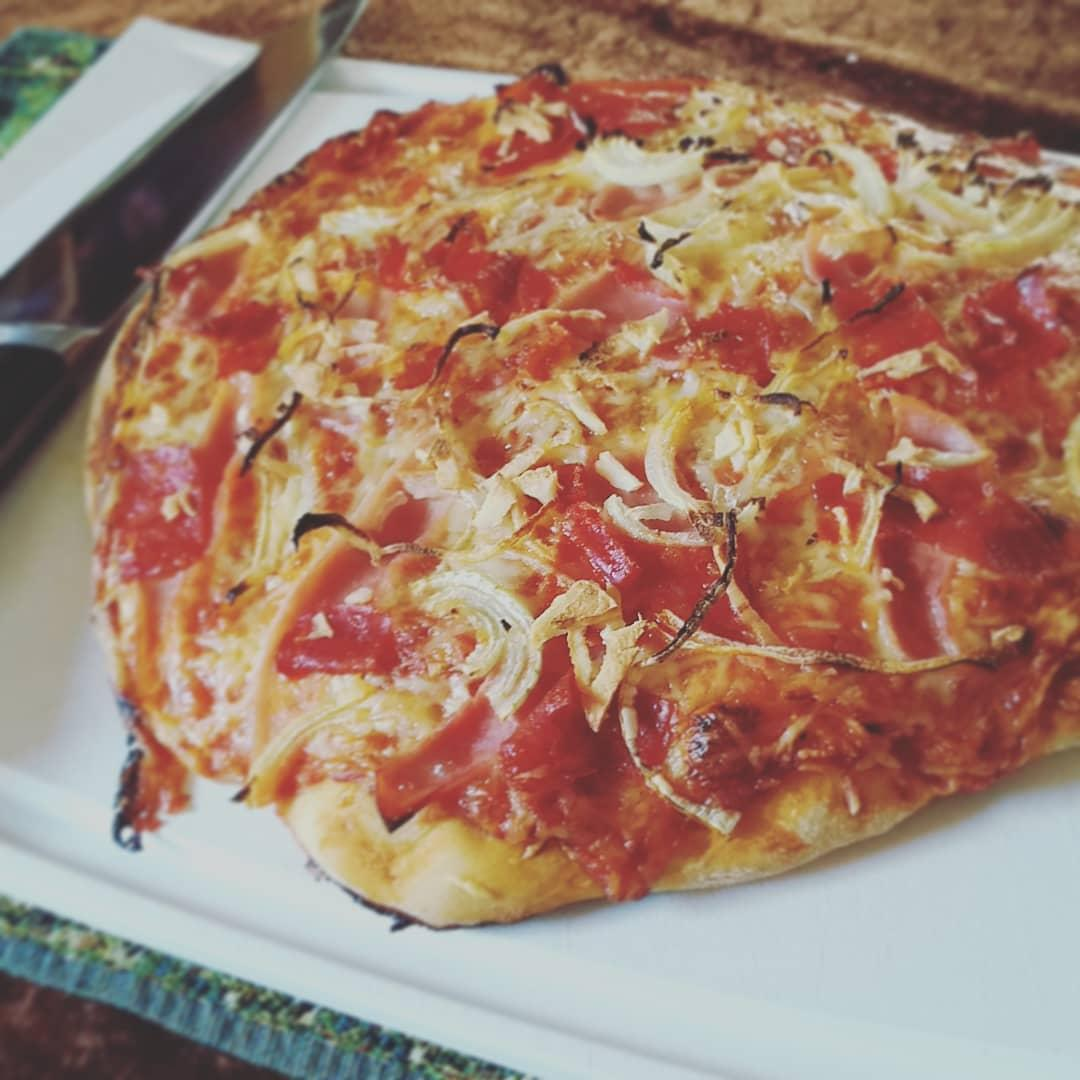Ham: (275, 490, 441, 687), (821, 472, 1058, 562), (483, 61, 675, 171), (370, 691, 511, 834), (508, 262, 669, 377), (814, 254, 945, 348), (968, 266, 1066, 366), (202, 303, 287, 375), (587, 172, 706, 219)
Pepperoni: (115, 447, 217, 588)
Pizza: (115, 62, 1080, 925)
